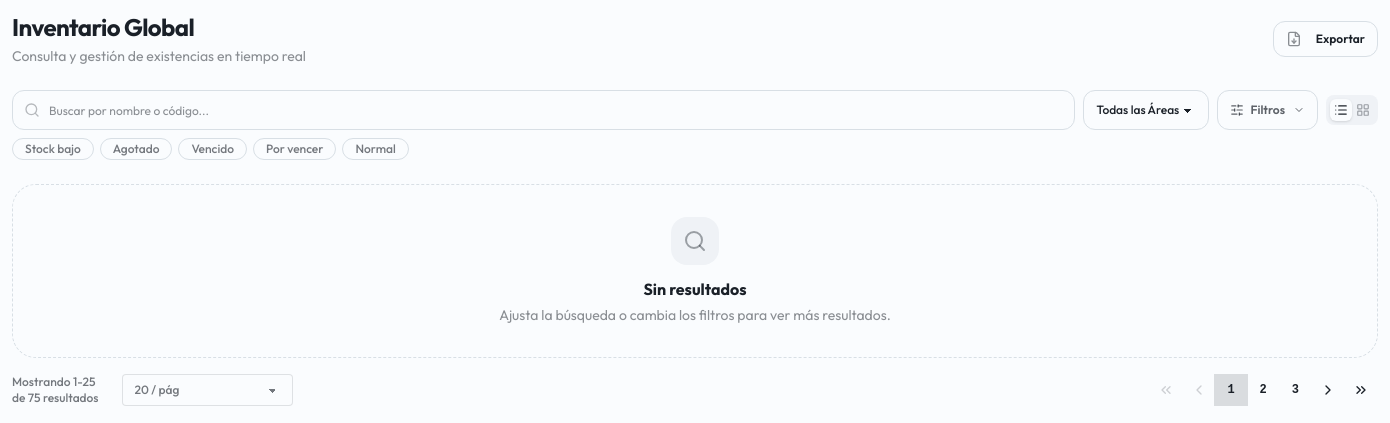
Test: StockPage pagination › returns to the first page when a filter changes
Expected: the text "Mostrando 1-25 de 75 resultados" is shown, left=12, top=374, right=106, bottom=406
Step 1. Click the button named "Página siguiente" → [1328, 390], box left=1311, top=374, right=1345, bottom=406
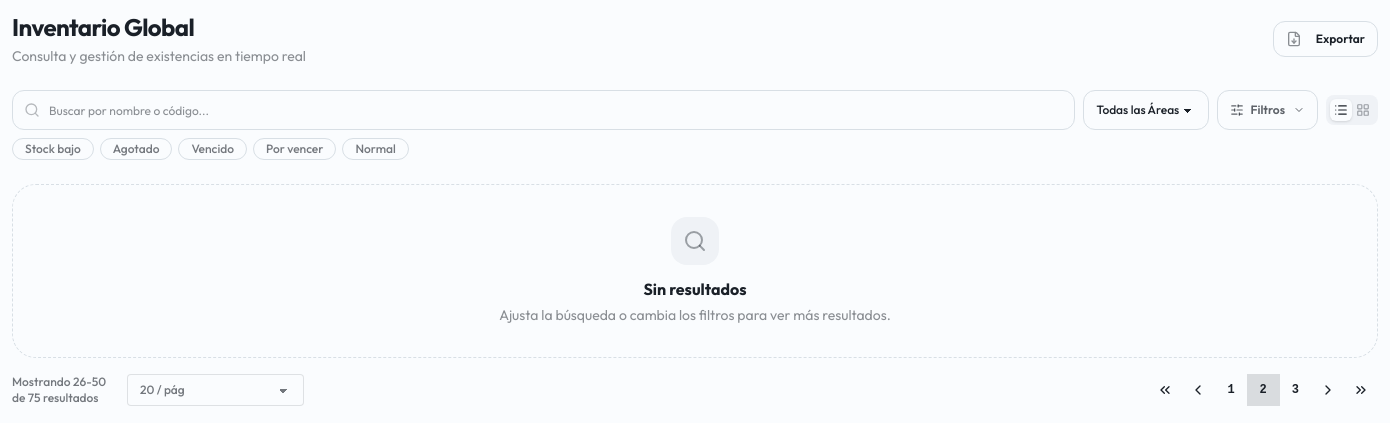
Expected: the text "Mostrando 26-50 de 75 resultados" is shown, left=12, top=374, right=111, bottom=406
Step 2. Type "reactivo" into the field with placeholder "Buscar por nombre o código..." → [544, 110], box left=12, top=90, right=1076, bottom=130
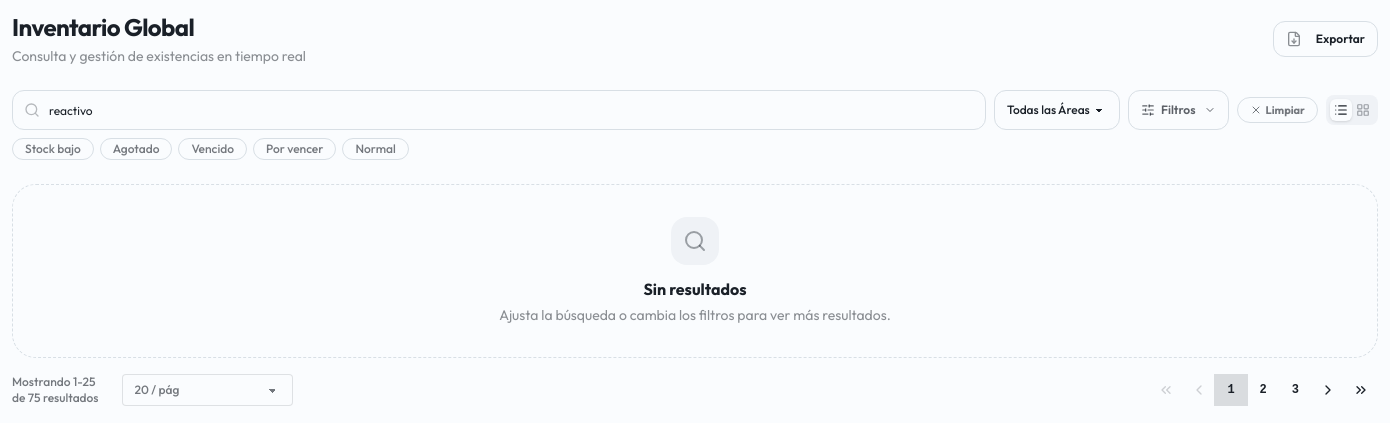
Expected: the text "Mostrando 1-25 de 75 resultados" is shown, left=12, top=374, right=106, bottom=406
